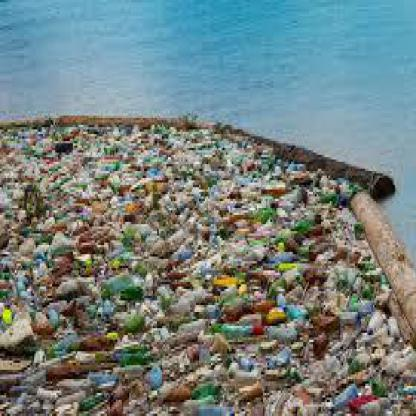Plastic: (103, 279, 147, 299), (41, 361, 92, 378), (113, 347, 154, 364), (219, 320, 257, 338), (334, 383, 359, 409), (190, 406, 236, 416)
